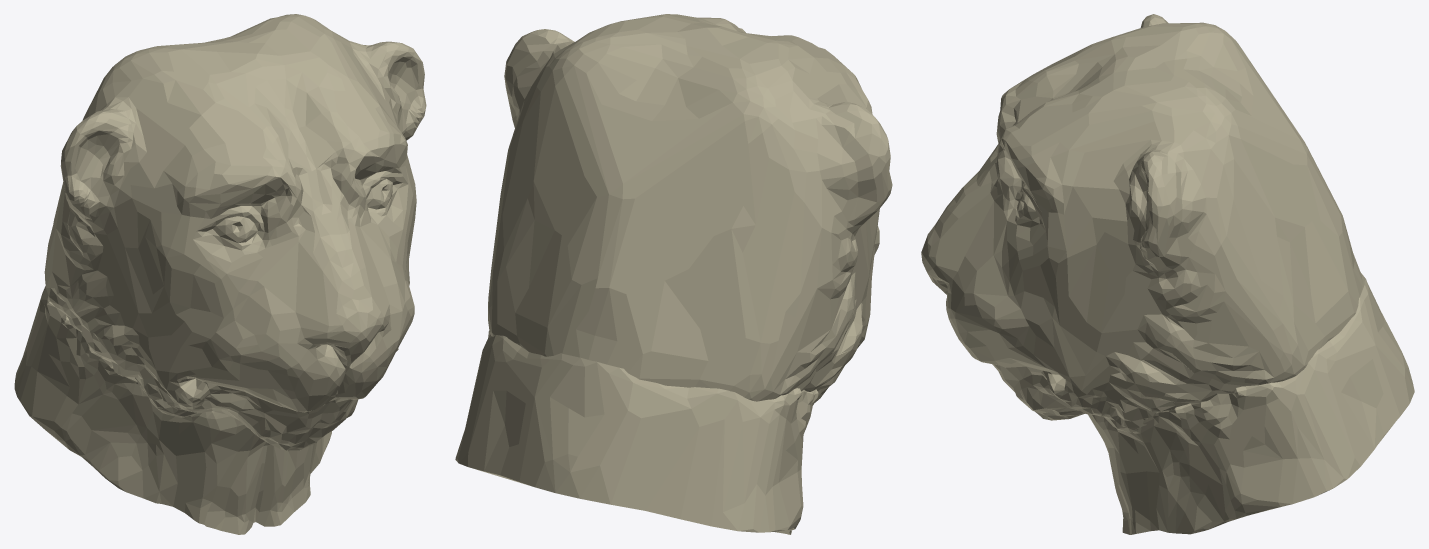
Rendered from Leone_01.glb.
3 views of the same model, side by side, from view 1: azimuth 30°, elevation 25°; view 2: azimuth 150°, elevation 25°; view 3: azimuth 270°, elevation 25° (orthographic). The views are drawn at different scales.
Visible parts, largest first — view 1: Leone_01; view 2: Leone_01; view 3: Leone_01.
Part boxes in pixels (x1,y1,x2,y2): Leone_01: [14, 14, 426, 534]; Leone_01: [455, 14, 892, 534]; Leone_01: [921, 14, 1414, 534].
Bounding box in the file's own units: 2.41 × 3.02 × 2.88.
